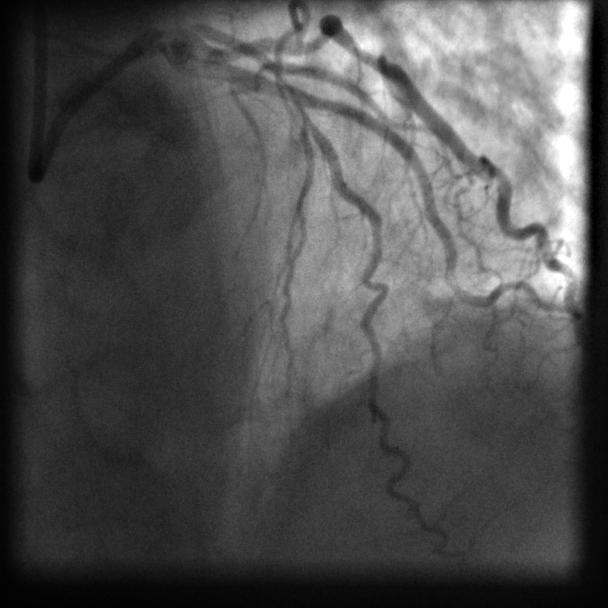Stenosis: (274, 66, 312, 124)
